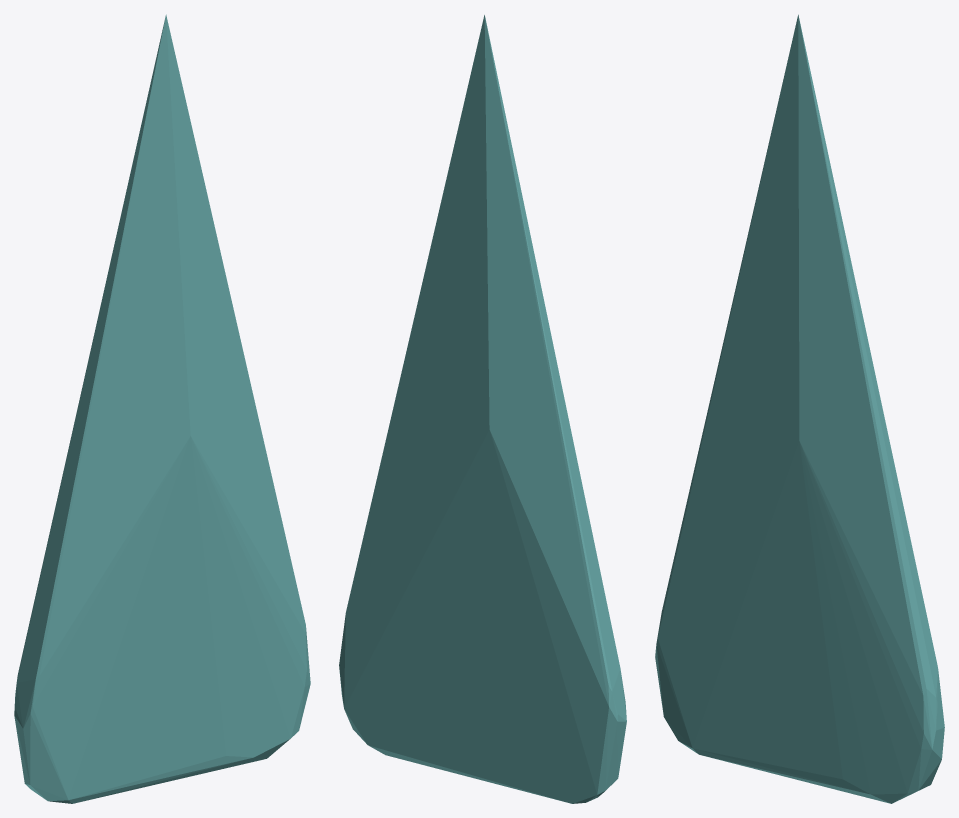
The model's file is utensils_scissors_e01.glb.
3 renders of one model, left to right at view 1: azimuth 30°, elevation 25°; view 2: azimuth 150°, elevation 25°; view 3: azimuth 330°, elevation 25°, orthographic.
Visible parts, largest first — view 1: geometry_0; view 2: geometry_0; view 3: geometry_0.
Part boxes in pixels (x1=…): geometry_0: x1=14, y1=14, x2=310, y2=803; geometry_0: x1=339, y1=15, x2=626, y2=803; geometry_0: x1=655, y1=14, x2=944, y2=803.
Size of the model in its own units: 0.1854 by 0.4788 by 0.033.
